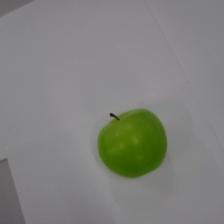green: (95, 108, 168, 179)
